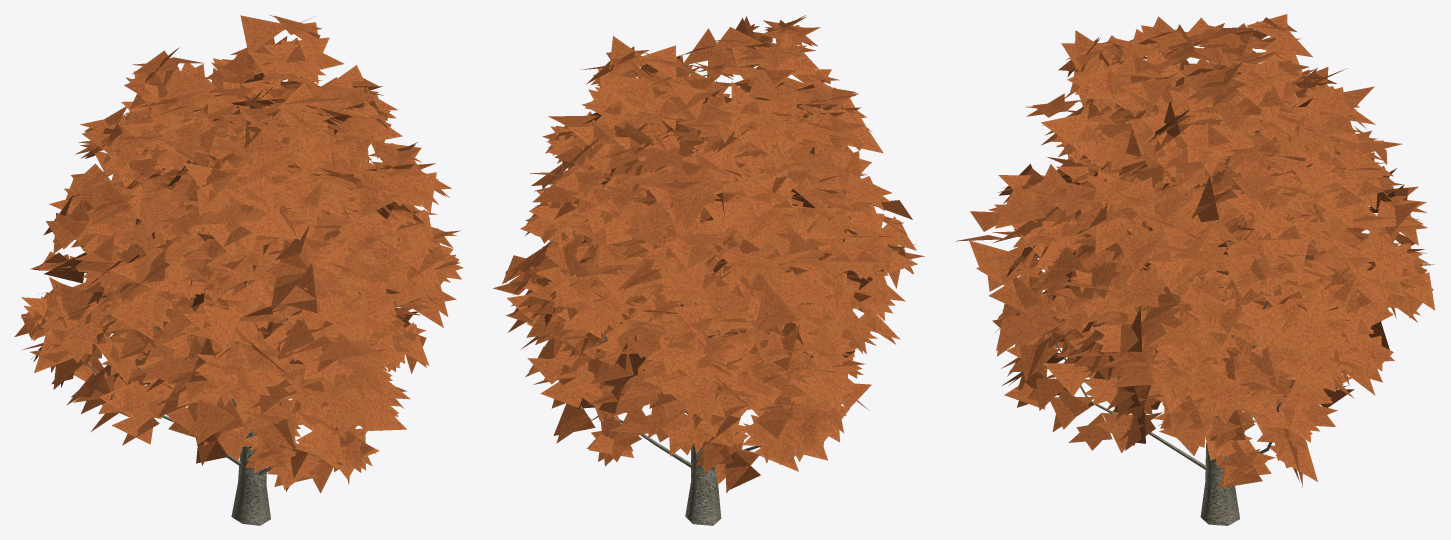
File: Zelkova_Serrata_Autumn_Adult.glb
The picture shows the model from 3 angles, left to right: view 1: azimuth 30°, elevation 25°; view 2: azimuth 150°, elevation 25°; view 3: azimuth 270°, elevation 25°; orthographic projection. The views are drawn at different scales.
Parts seen in each view (by area): view 1: Zelkova_Serrata_Autumn_Adult__LOD3; view 2: Zelkova_Serrata_Autumn_Adult__LOD3; view 3: Zelkova_Serrata_Autumn_Adult__LOD3.
Part boxes in pixels (box(x1,y1,x2,y2)): Zelkova_Serrata_Autumn_Adult__LOD3: box(14, 14, 463, 525); Zelkova_Serrata_Autumn_Adult__LOD3: box(493, 15, 924, 525); Zelkova_Serrata_Autumn_Adult__LOD3: box(955, 14, 1435, 525).
Bounding box in the file's own units: 17.29 × 20.36 × 18.4.
2 materials, 2 textured.
